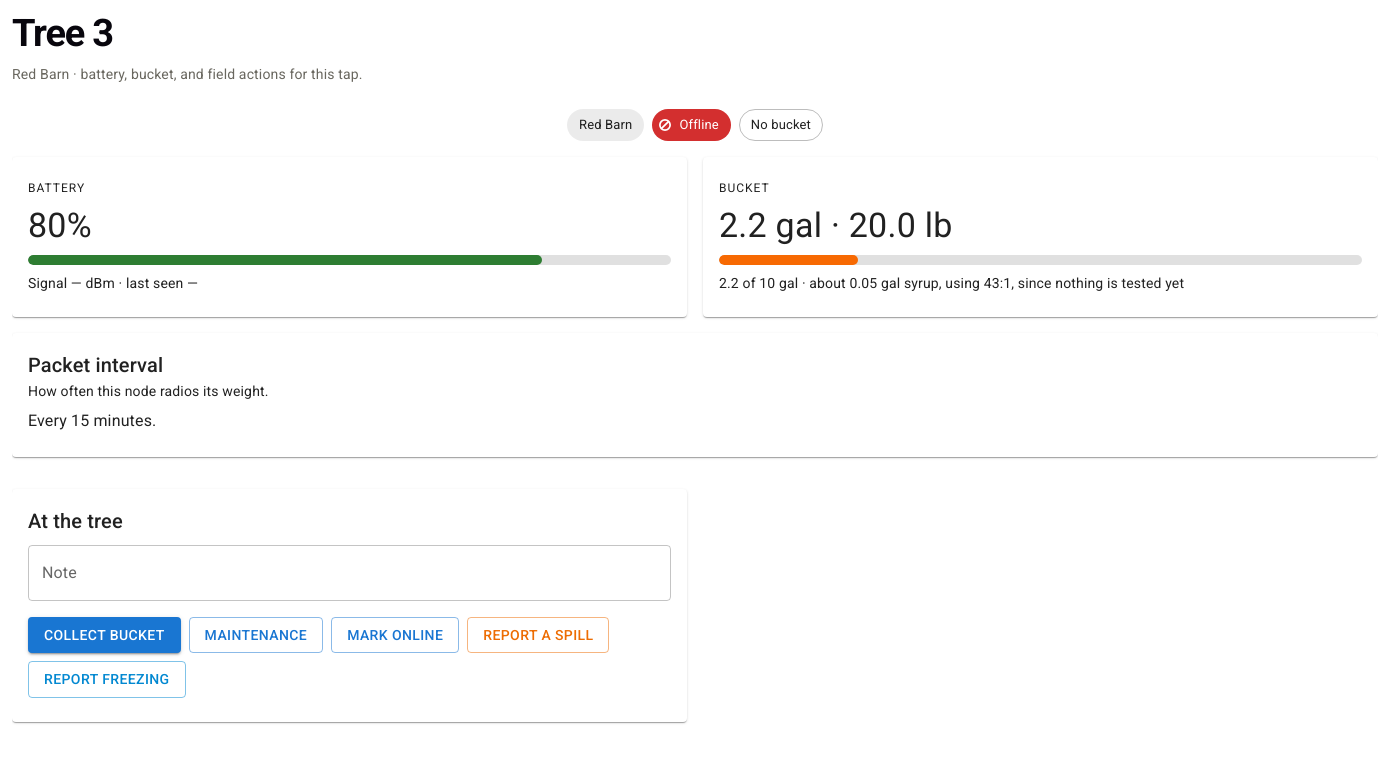
Scenario: tree page field actions › confirms a reported spill
The image size is (1378, 780).
Expected: the heading "Tree 3" is shown, 12,11 -> 113,55
Click the button "Report a spill".
click(538, 635)  # box 467,617 -> 610,653
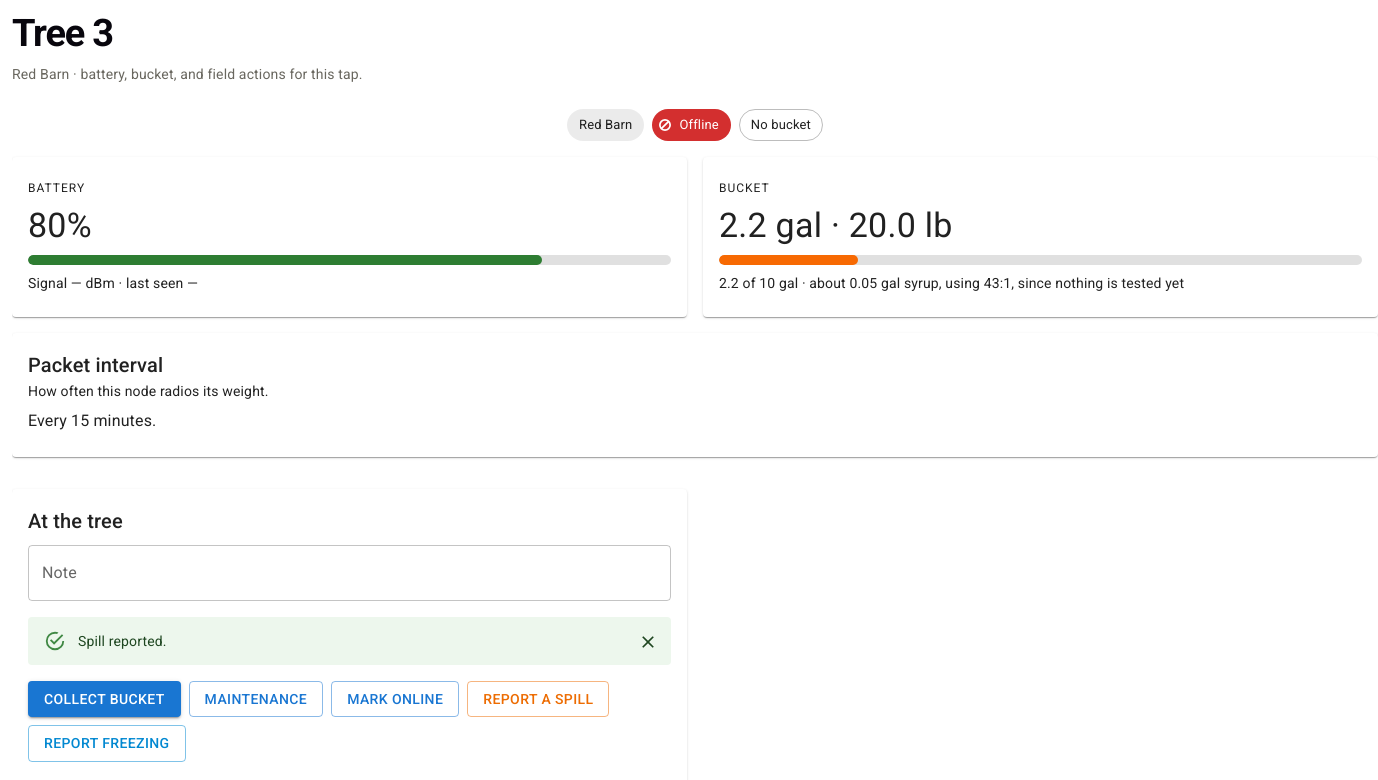
Now the text "Spill reported." is shown, box 78,633 -> 167,649
